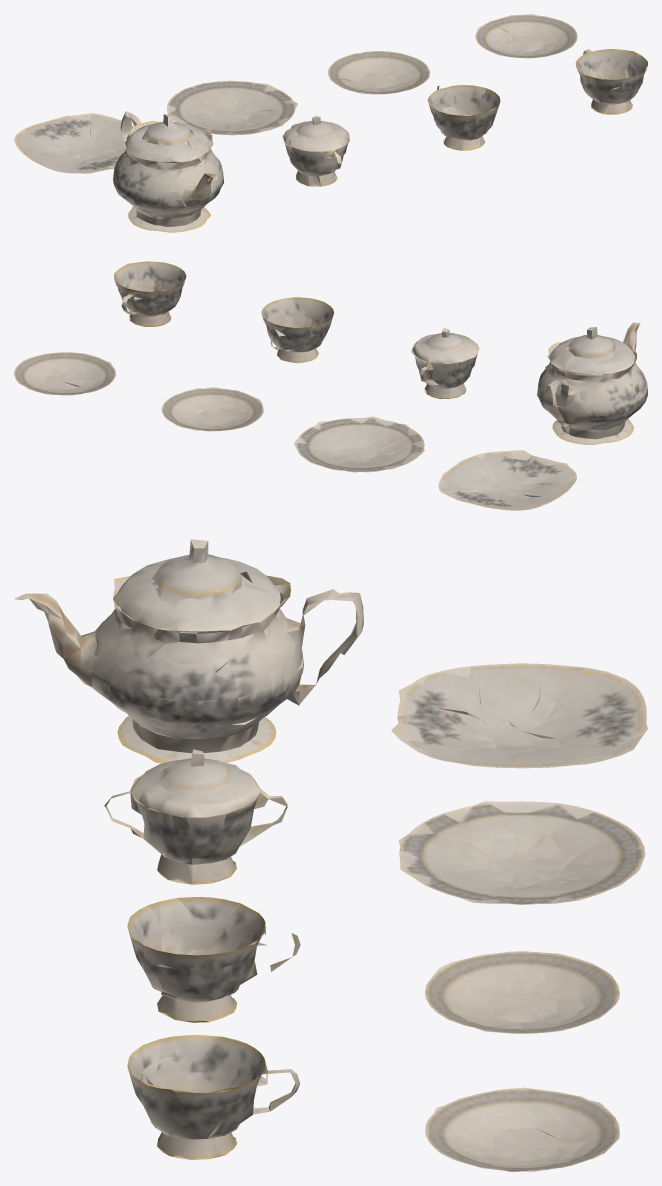
Rendered from tea_set.glb.
3 views of the same model, one above another, from view 1: azimuth 30°, elevation 25°; view 2: azimuth 150°, elevation 25°; view 3: azimuth 270°, elevation 25° (orthographic). The views are drawn at different scales.
Visible parts, largest first — view 1: mesh; view 2: mesh; view 3: mesh.
Boxes of the visible parts, box(x1,y1,x2,y2) form: mesh: box(14, 14, 647, 232); mesh: box(14, 261, 647, 510); mesh: box(14, 539, 647, 1171).
Bounding box in the file's own units: 0.9258 × 0.165 × 0.4898.
1 material, 1 textured.
